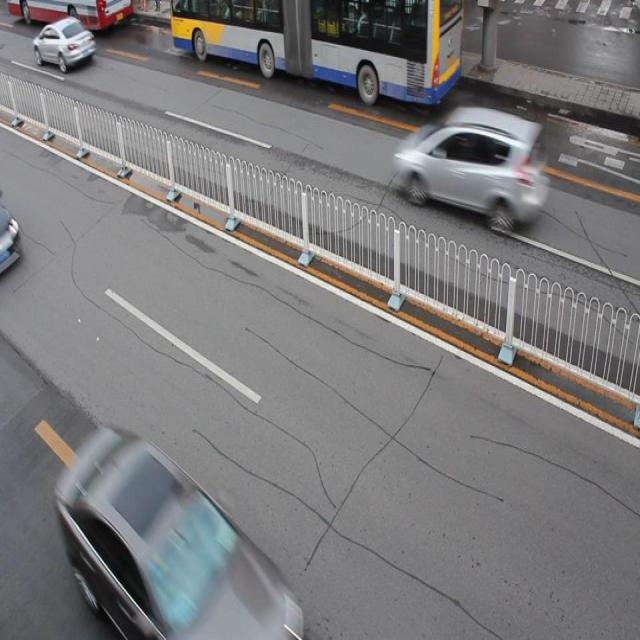car: (58, 430, 300, 640), (399, 107, 544, 226), (32, 15, 96, 73)
van: (170, 1, 462, 104), (9, 1, 134, 33)
